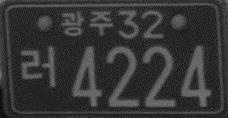2: (107, 46, 143, 110), (142, 45, 177, 109), (141, 9, 163, 43)
3: (115, 8, 141, 40)
4: (66, 46, 102, 109), (181, 44, 213, 108)
광주_O: (60, 9, 113, 39)
러: (20, 46, 56, 89)
